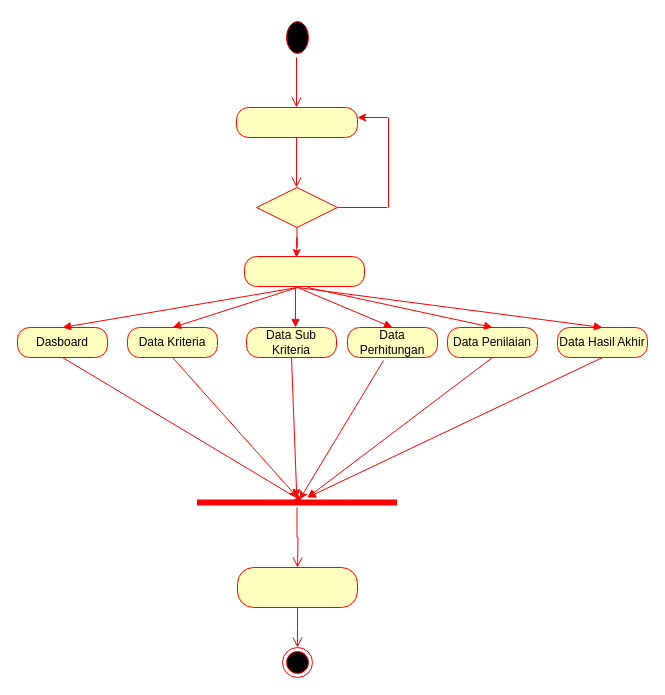
This 665x695 diagram has some shape labels left out. The box of each missing label's shape, as (x1, y1, x2, y2) in pixels:
Login: (236, 106, 358, 138)
Logout: (236, 566, 358, 608)
Menu Admin: (244, 256, 364, 286)
